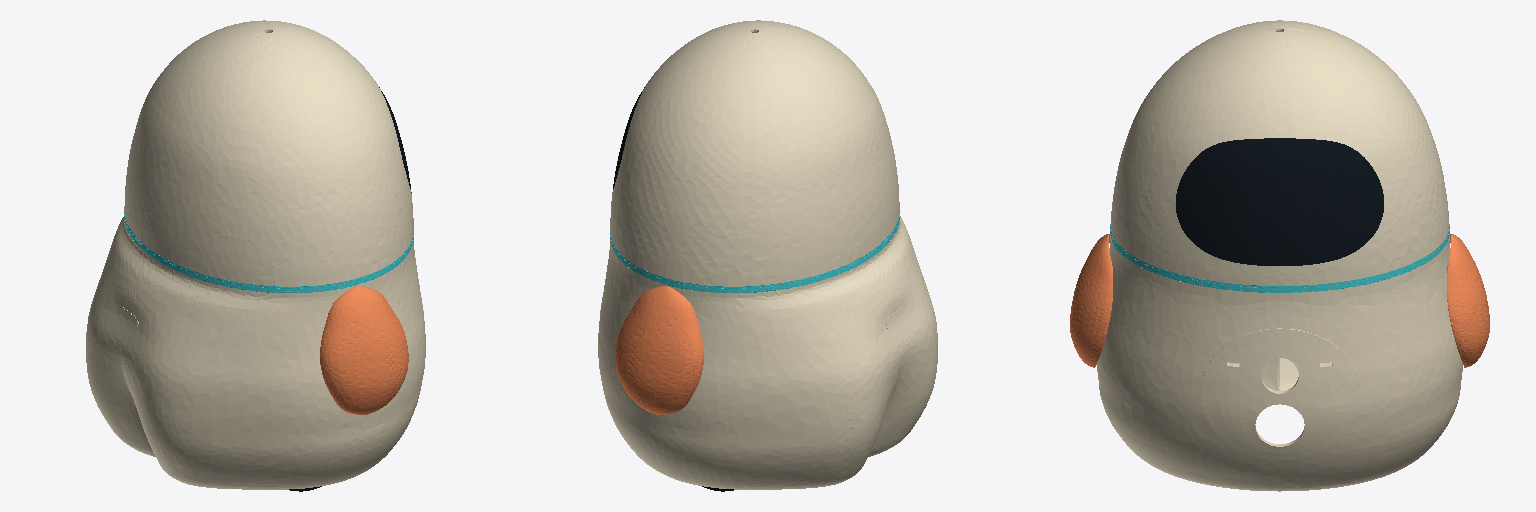
URDF robot description (orbo_v9_full):
<?xml version='1.0' encoding='utf-8'?>
<robot name="orbo_v9_full">
  <link name="base_link" />
  <link name="cad_chassis_and_equipment">
    <visual>
      <geometry>
        <mesh filename="package://orbo_description/meshes/v9/chassis_and_equipment.stl" scale="0.001 0.001 0.001" />
      </geometry>
      <material name="chassis_and_equipment_material">
        <color rgba=".30 .43 .49 1" />
      </material>
    </visual>
  </link>
  <joint name="cad_chassis_and_equipment_mount" type="fixed">
    <parent link="base_link" />
    <child link="cad_chassis_and_equipment" />
  </joint>
  <link name="cad_display_module">
    <visual>
      <geometry>
        <mesh filename="package://orbo_description/meshes/v9/display_module.stl" scale="0.001 0.001 0.001" />
      </geometry>
      <material name="display_module_material">
        <color rgba=".15 .2 .2 1" />
      </material>
    </visual>
  </link>
  <joint name="cad_display_module_mount" type="fixed">
    <parent link="base_link" />
    <child link="cad_display_module" />
  </joint>
  <link name="cad_display_mount">
    <visual>
      <geometry>
        <mesh filename="package://orbo_description/meshes/v9/display_mount.stl" scale="0.001 0.001 0.001" />
      </geometry>
      <material name="display_mount_material">
        <color rgba=".30 .43 .49 1" />
      </material>
    </visual>
  </link>
  <joint name="cad_display_mount_mount" type="fixed">
    <parent link="base_link" />
    <child link="cad_display_mount" />
  </joint>
  <link name="cad_eyes">
    <visual>
      <geometry>
        <mesh filename="package://orbo_description/meshes/v9/eyes.stl" scale="0.001 0.001 0.001" />
      </geometry>
      <material name="eyes_material">
        <color rgba="1 .98 .8 1" />
      </material>
    </visual>
  </link>
  <joint name="cad_eyes_mount" type="fixed">
    <parent link="base_link" />
    <child link="cad_eyes" />
  </joint>
  <link name="cad_face_cover">
    <visual>
      <geometry>
        <mesh filename="package://orbo_description/meshes/v9/face_cover.stl" scale="0.001 0.001 0.001" />
      </geometry>
      <material name="face_cover_material">
        <color rgba=".1 .13 .16 .45" />
      </material>
    </visual>
  </link>
  <joint name="cad_face_cover_mount" type="fixed">
    <parent link="base_link" />
    <child link="cad_face_cover" />
  </joint>
  <link name="cad_face_mask">
    <visual>
      <geometry>
        <mesh filename="package://orbo_description/meshes/v9/face_mask.stl" scale="0.001 0.001 0.001" />
      </geometry>
      <material name="face_mask_material">
        <color rgba=".055 .065 .075 1" />
      </material>
    </visual>
  </link>
  <joint name="cad_face_mask_mount" type="fixed">
    <parent link="base_link" />
    <child link="cad_face_mask" />
  </joint>
  <link name="cad_flipper_covers">
    <visual>
      <geometry>
        <mesh filename="package://orbo_description/meshes/v9/flipper_covers.stl" scale="0.001 0.001 0.001" />
      </geometry>
      <material name="flipper_covers_material">
        <color rgba=".95 .56 .37 1" />
      </material>
    </visual>
  </link>
  <joint name="cad_flipper_covers_mount" type="fixed">
    <parent link="base_link" />
    <child link="cad_flipper_covers" />
  </joint>
  <link name="cad_head_shell">
    <visual>
      <geometry>
        <mesh filename="package://orbo_description/meshes/v9/head_shell.stl" scale="0.001 0.001 0.001" />
      </geometry>
      <material name="head_shell_material">
        <color rgba=".91 .87 .77 1" />
      </material>
    </visual>
  </link>
  <joint name="cad_head_shell_mount" type="fixed">
    <parent link="base_link" />
    <child link="cad_head_shell" />
  </joint>
  <link name="cad_left_wheel">
    <visual>
      <geometry>
        <mesh filename="package://orbo_description/meshes/v9/left_wheel.stl" scale="0.001 0.001 0.001" />
      </geometry>
      <material name="left_wheel_material">
        <color rgba=".1 .1 .1 1" />
      </material>
    </visual>
  </link>
  <joint name="cad_left_wheel_mount" type="fixed">
    <parent link="base_link" />
    <child link="cad_left_wheel" />
    <origin xyz="0 0.0509 0" />
  </joint>
  <link name="cad_neck_diffuser">
    <visual>
      <geometry>
        <mesh filename="package://orbo_description/meshes/v9/neck_diffuser.stl" scale="0.001 0.001 0.001" />
      </geometry>
      <material name="neck_diffuser_material">
        <color rgba=".3 .85 .88 1" />
      </material>
    </visual>
  </link>
  <joint name="cad_neck_diffuser_mount" type="fixed">
    <parent link="base_link" />
    <child link="cad_neck_diffuser" />
  </joint>
  <link name="cad_right_wheel">
    <visual>
      <geometry>
        <mesh filename="package://orbo_description/meshes/v9/right_wheel.stl" scale="0.001 0.001 0.001" />
      </geometry>
      <material name="right_wheel_material">
        <color rgba=".1 .1 .1 1" />
      </material>
    </visual>
  </link>
  <joint name="cad_right_wheel_mount" type="fixed">
    <parent link="base_link" />
    <child link="cad_right_wheel" />
    <origin xyz="0 -0.0509 0" />
  </joint>
  <link name="cad_servos">
    <visual>
      <geometry>
        <mesh filename="package://orbo_description/meshes/v9/servos.stl" scale="0.001 0.001 0.001" />
      </geometry>
      <material name="servos_material">
        <color rgba=".30 .43 .49 1" />
      </material>
    </visual>
  </link>
  <joint name="cad_servos_mount" type="fixed">
    <parent link="base_link" />
    <child link="cad_servos" />
  </joint>
  <link name="cad_torso_shell">
    <visual>
      <geometry>
        <mesh filename="package://orbo_description/meshes/v9/torso_shell.stl" scale="0.001 0.001 0.001" />
      </geometry>
      <material name="torso_shell_material">
        <color rgba=".91 .87 .77 1" />
      </material>
    </visual>
  </link>
  <joint name="cad_torso_shell_mount" type="fixed">
    <parent link="base_link" />
    <child link="cad_torso_shell" />
  </joint>
</robot>

--- Render facts (derived) ---
The picture shows the robot from 3 angles, left to right: view 1: azimuth 30°, elevation 25°; view 2: azimuth 150°, elevation 25°; view 3: azimuth 270°, elevation 25°; orthographic projection.
Robot: orbo_v9_full — 14 links, 13 joints (13 fixed); root link base_link; default pose: every joint at zero.
Links seen in each view (by area): view 1: cad_head_shell, cad_torso_shell, cad_flipper_covers, cad_neck_diffuser; view 2: cad_head_shell, cad_torso_shell, cad_flipper_covers, cad_neck_diffuser; view 3: cad_torso_shell, cad_head_shell, cad_face_cover, cad_flipper_covers, cad_neck_diffuser.
Boxes of the visible links, bbox=[...] form: cad_head_shell: bbox=[124, 20, 413, 286]; cad_torso_shell: bbox=[86, 217, 425, 489]; cad_flipper_covers: bbox=[320, 286, 408, 414]; cad_neck_diffuser: bbox=[124, 213, 413, 292]; cad_head_shell: bbox=[610, 20, 899, 286]; cad_torso_shell: bbox=[598, 216, 937, 489]; cad_flipper_covers: bbox=[615, 286, 703, 414]; cad_neck_diffuser: bbox=[610, 212, 899, 292]; cad_torso_shell: bbox=[1097, 234, 1462, 491]; cad_head_shell: bbox=[1110, 20, 1449, 285]; cad_face_cover: bbox=[1176, 138, 1383, 265]; cad_flipper_covers: bbox=[1070, 234, 1489, 367]; cad_neck_diffuser: bbox=[1110, 224, 1449, 292].
Bounding box of the posed robot: 0.174 × 0.2181 × 0.2459 m (x, y, z).
12 mesh visuals loaded from 13 distinct referenced files (12 binary STL); not drawn: 1 (reference not matched to a file when rendering).
